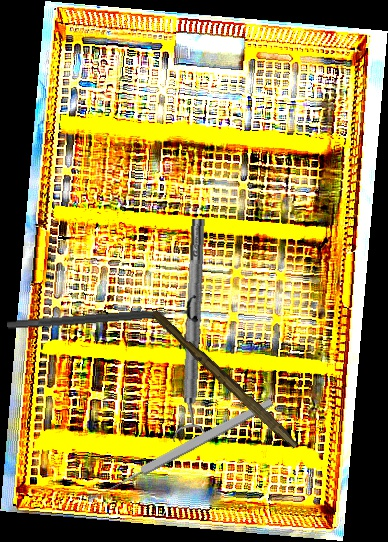Fixation Ring: (170, 218, 218, 444), (6, 293, 198, 341)
Scalpel Handle: (148, 308, 303, 450)
Surgical Spoon: (85, 395, 275, 506)
